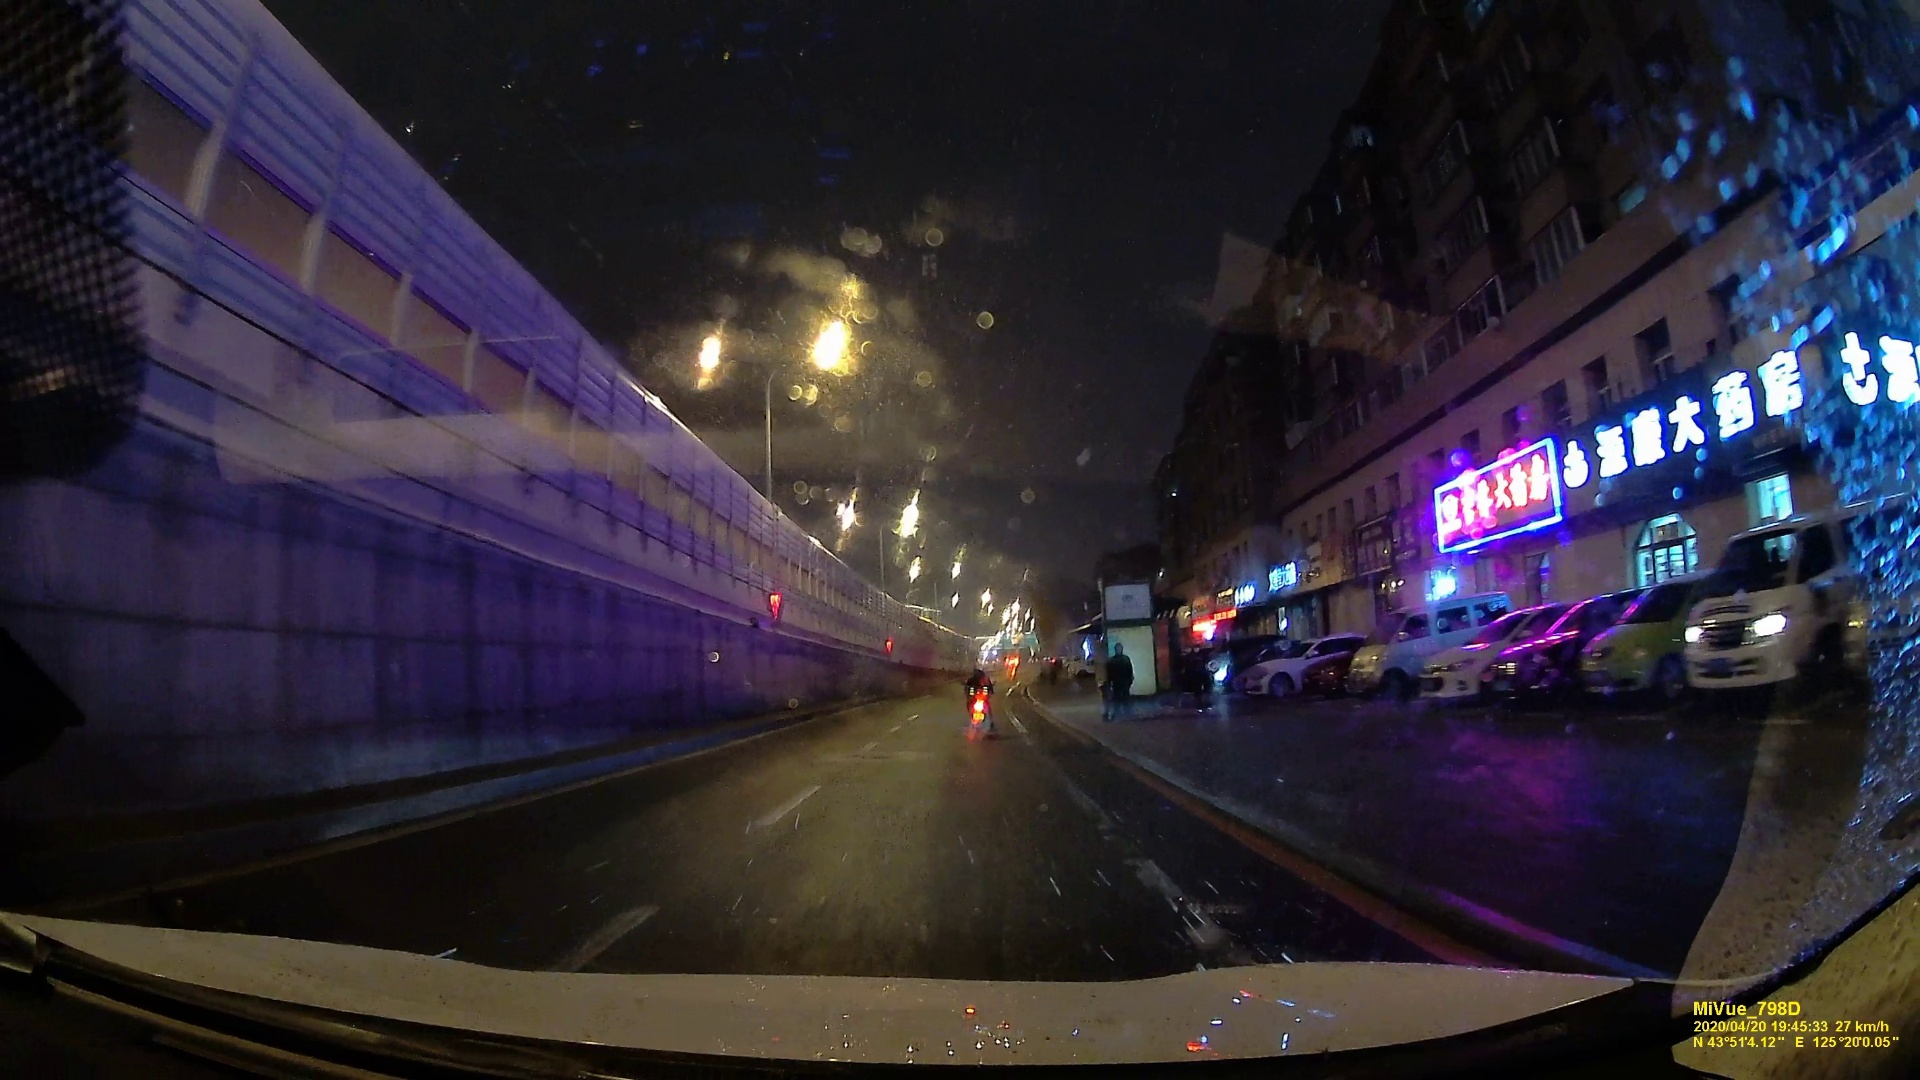minibus: (1681, 509, 1843, 703), (1347, 604, 1474, 693)
person: (1105, 642, 1131, 730), (1186, 642, 1216, 714), (961, 668, 993, 706)
vehicle: (1242, 643, 1317, 698)
